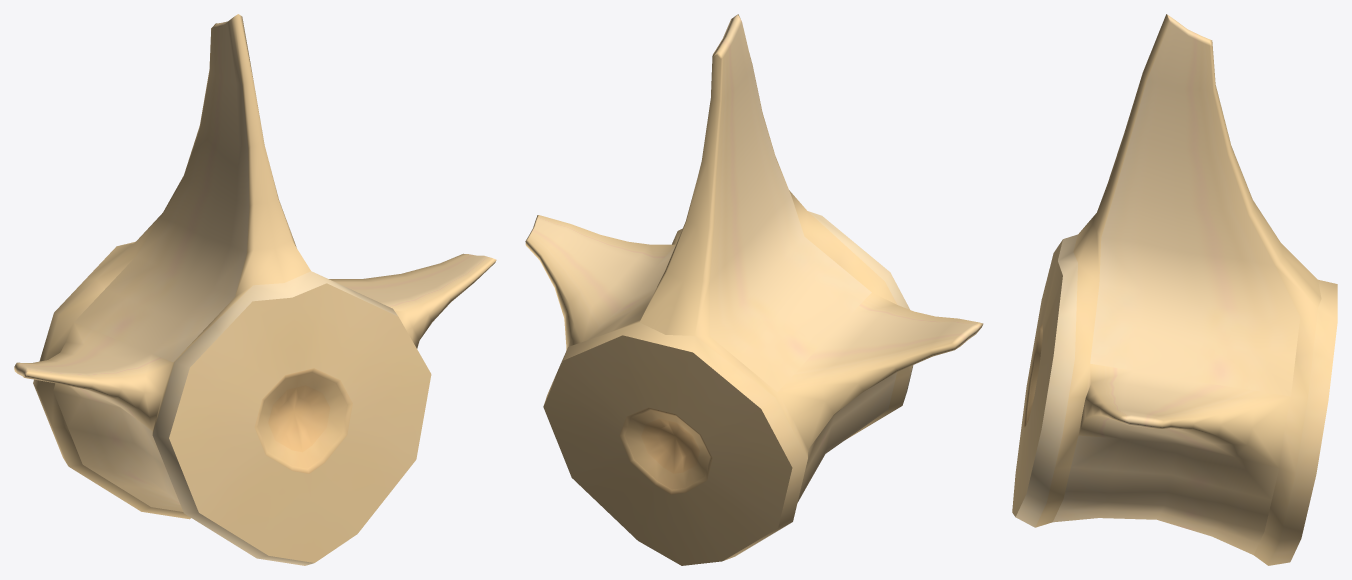
File: Spine2.fbx
3 views of the same model, side by side, from view 1: azimuth 30°, elevation 25°; view 2: azimuth 150°, elevation 25°; view 3: azimuth 270°, elevation 25° (orthographic). The views are drawn at different scales.
Visible parts, largest first — view 1: polySurface13; view 2: polySurface13; view 3: polySurface13.
Boxes of the visible parts, x1=… form: polySurface13: x1=14, y1=14, x2=496, y2=565; polySurface13: x1=525, y1=14, x2=983, y2=565; polySurface13: x1=1012, y1=14, x2=1337, y2=565.
Size of the model in its own units: 3.32 by 3.65 by 1.97.
